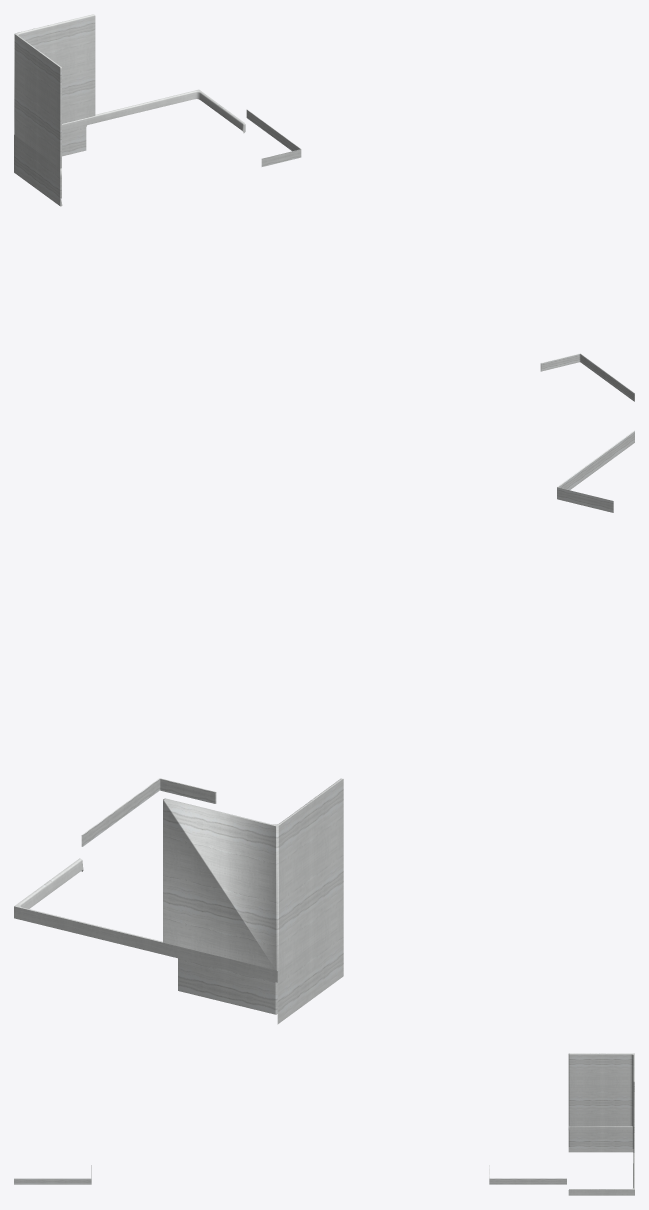
The model's file is 1860_bathroom_BP_BackplashSwedenVadretPolished.gltf.
The picture shows the model from 3 angles, top to bottom: view 1: azimuth 30°, elevation 25°; view 2: azimuth 150°, elevation 25°; view 3: azimuth 270°, elevation 25°; orthographic projection. The views are drawn at different scales.
Parts seen in each view (by area): view 1: Sweden_Vadret_Polished.001; view 2: Sweden_Vadret_Polished.001; view 3: Sweden_Vadret_Polished.001.
Boxes of the visible parts, x1,y1,x2,y2 form: Sweden_Vadret_Polished.001: [14, 14, 634, 401]; Sweden_Vadret_Polished.001: [14, 430, 634, 1024]; Sweden_Vadret_Polished.001: [14, 1053, 634, 1195].
Bounding box in the file's own units: 4.6 × 3.3 × 18.76.
1 material, 1 textured.
